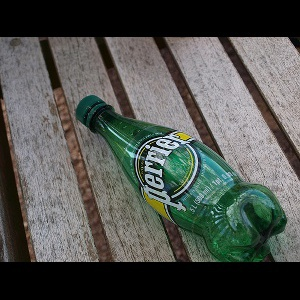emptybottle: (75, 94, 289, 262)
